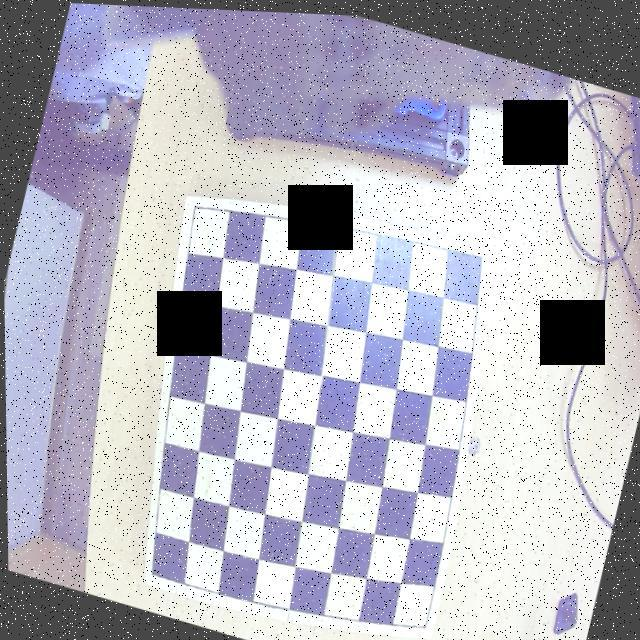chess-table-corners: (461, 239, 490, 271), (182, 192, 209, 223), (138, 556, 162, 588), (407, 610, 432, 638)
